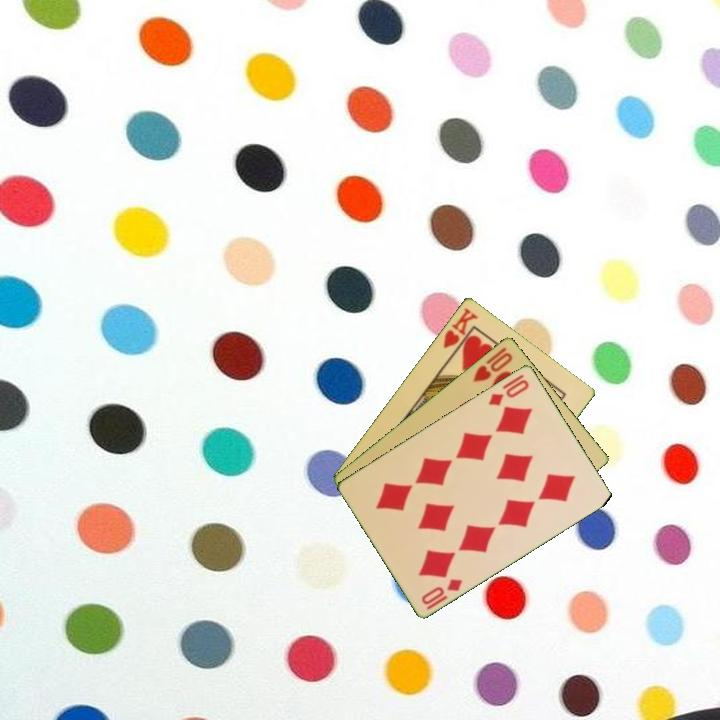10d: (484, 370, 532, 408), (418, 575, 465, 607)
10h: (469, 343, 516, 385)
Kh: (439, 304, 481, 359)
